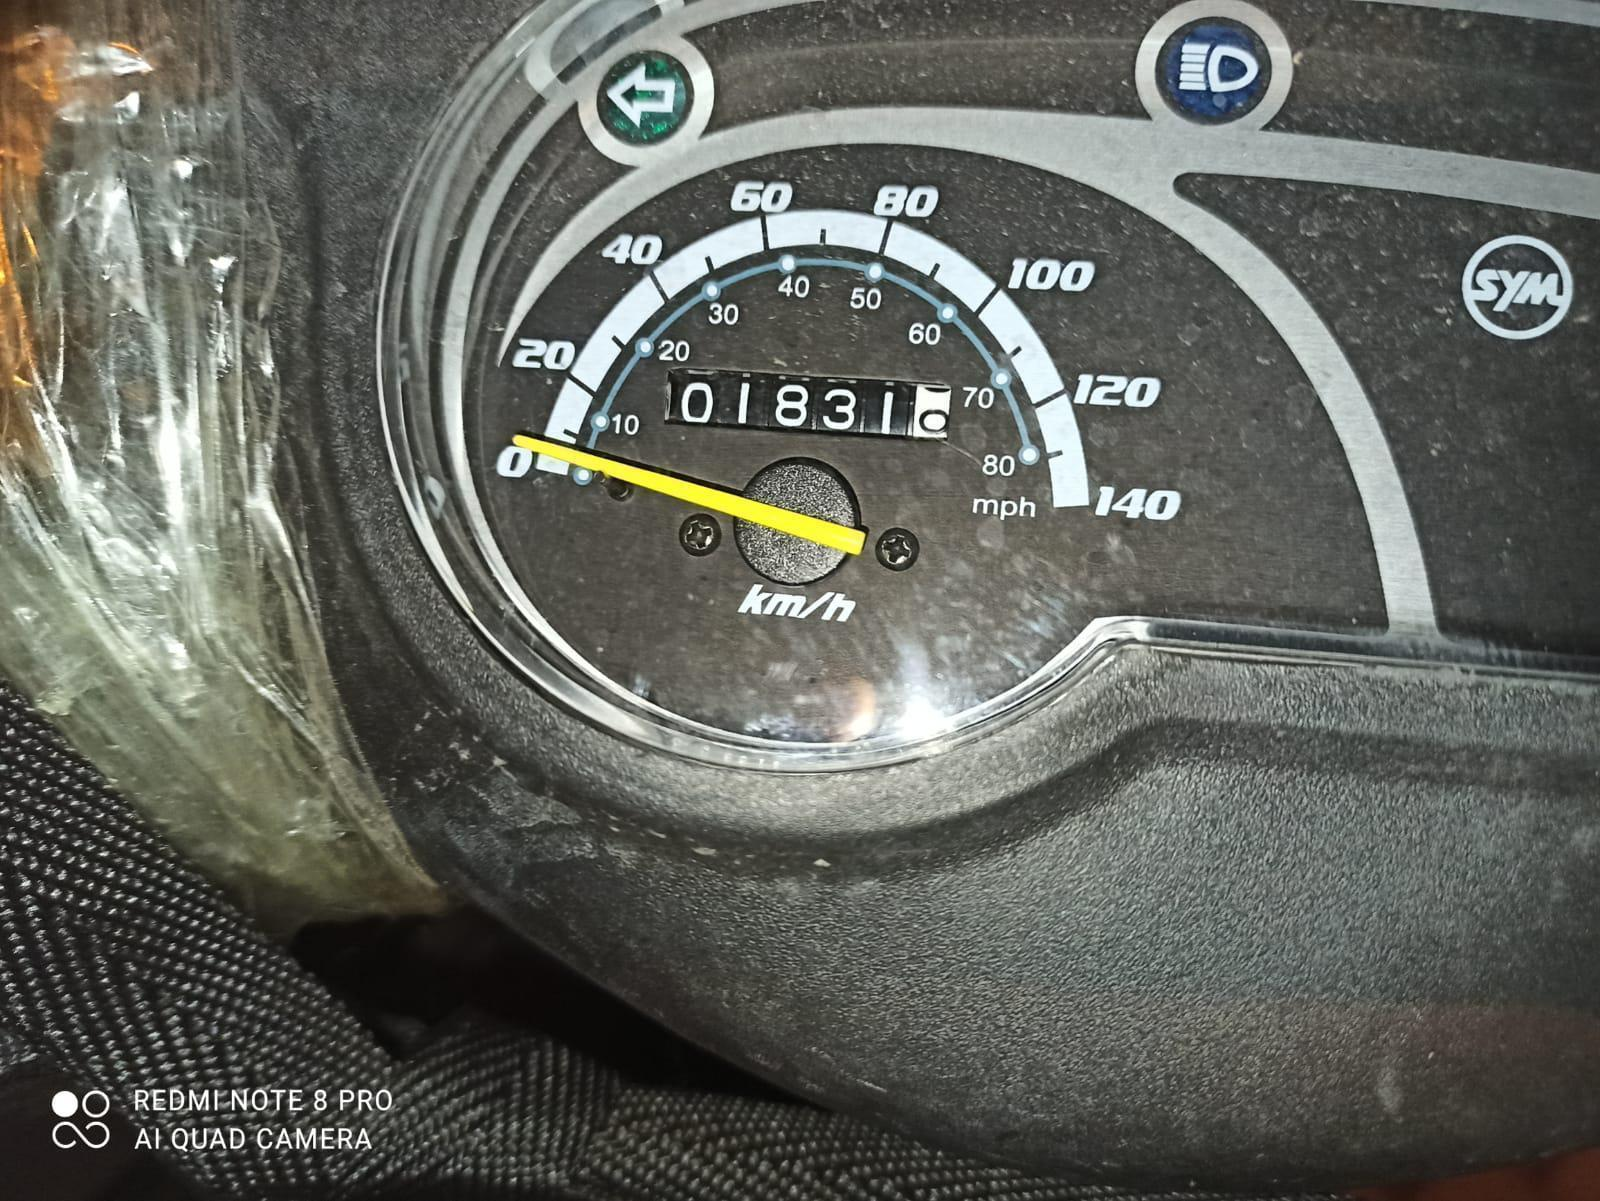0: (678, 377, 717, 428)
1: (733, 375, 753, 431), (877, 385, 895, 443)
3: (821, 385, 858, 438)
8: (772, 378, 813, 430)
9: (917, 404, 954, 452)
odometer: (651, 363, 964, 466)
